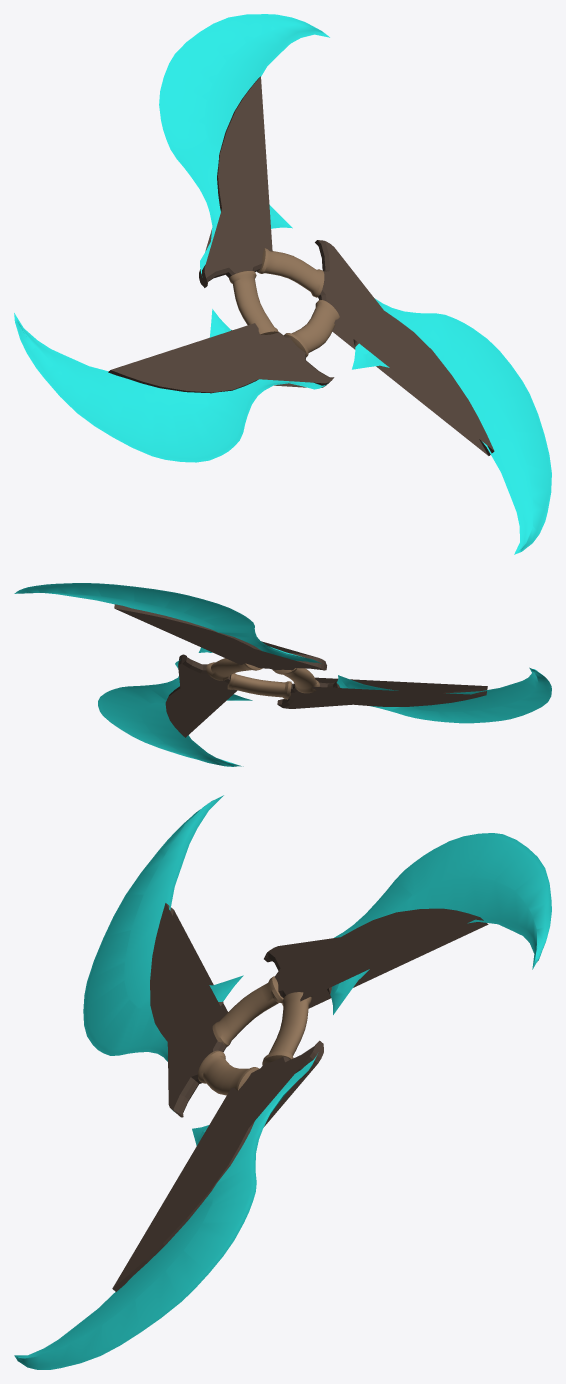
File: flickerBlade.fbx
3 views of the same model, one above another, from view 1: azimuth 30°, elevation 25°; view 2: azimuth 150°, elevation 25°; view 3: azimuth 270°, elevation 25° (orthographic). The views are drawn at different scales.
Visible parts, largest first — view 1: Plane.010, Plane.007, Plane.011, Plane.012, Plane.008, Plane.009, Circle.004, Circle.002, Circle.003; view 2: Plane.007, Plane.011, Plane.010, Plane.009, Plane.008, Plane.012, Circle.003, Circle.004, Circle.002; view 3: Plane.011, Plane.007, Plane.010, Plane.008, Plane.012, Plane.009, Circle.002, Circle.004, Circle.003.
Part boxes in pixels (left/top/right/bottom): Plane.010: left=14, top=309, right=326, bottom=462; Plane.007: left=159, top=14, right=329, bottom=274; Plane.011: left=352, top=298, right=551, bottom=554; Plane.012: left=315, top=240, right=494, bottom=455; Plane.008: left=199, top=76, right=272, bottom=287; Plane.009: left=108, top=323, right=334, bottom=393; Circle.004: left=257, top=248, right=324, bottom=297; Circle.002: left=229, top=271, right=278, bottom=334; Circle.003: left=284, top=300, right=339, bottom=357; Plane.007: left=14, top=583, right=321, bottom=663; Plane.011: left=98, top=660, right=252, bottom=766; Plane.010: left=336, top=667, right=551, bottom=723; Plane.009: left=277, top=677, right=487, bottom=708; Plane.008: left=114, top=604, right=326, bottom=670; Plane.012: left=165, top=654, right=237, bottom=737; Circle.003: left=227, top=673, right=291, bottom=699; Circle.004: left=206, top=658, right=262, bottom=680; Circle.002: left=272, top=668, right=319, bottom=693; Plane.011: left=14, top=1054, right=317, bottom=1369; Plane.007: left=330, top=833, right=551, bottom=1014; Plane.010: left=83, top=795, right=243, bottom=1111; Plane.008: left=264, top=908, right=488, bottom=1008; Plane.012: left=112, top=1040, right=323, bottom=1291; Plane.009: left=150, top=903, right=227, bottom=1117; Circle.002: left=212, top=976, right=283, bottom=1047; Circle.004: left=262, top=992, right=311, bottom=1064; Circle.003: left=198, top=1050, right=259, bottom=1095.
Bounding box in the file's own units: 178 × 131 × 141.
